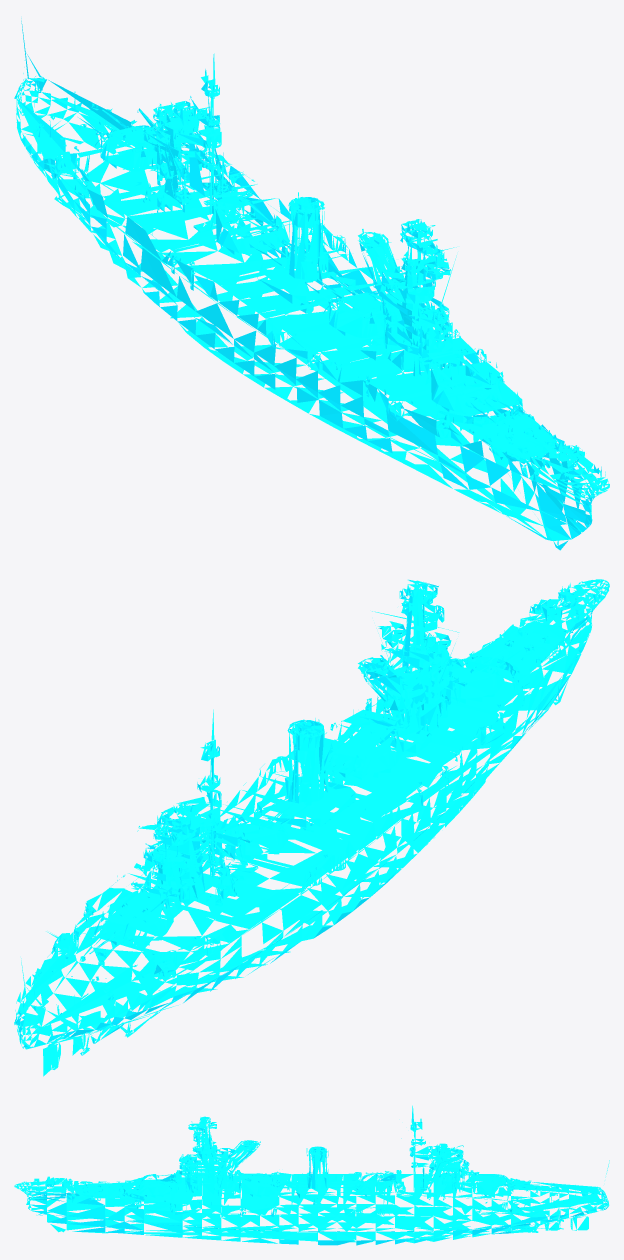
The model's file is Oktyabrskaya_Revolutsiya.glb.
3 renders of one model, top to bottom at view 1: azimuth 30°, elevation 25°; view 2: azimuth 150°, elevation 25°; view 3: azimuth 270°, elevation 25°, orthographic. The views are drawn at different scales.
Size of the model in its own units: 1.87 by 2.9 by 12.33.
